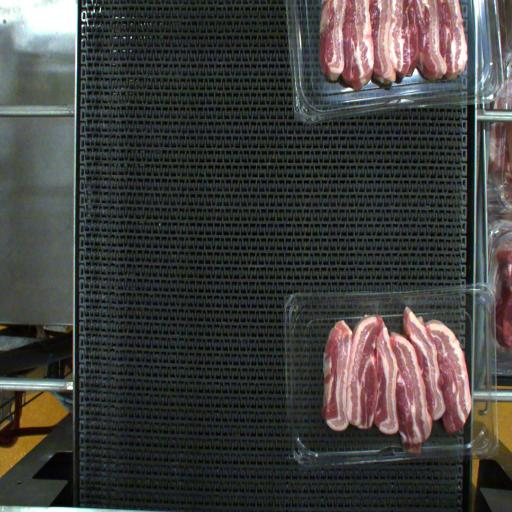packaging-error: (395, 432, 439, 467)
